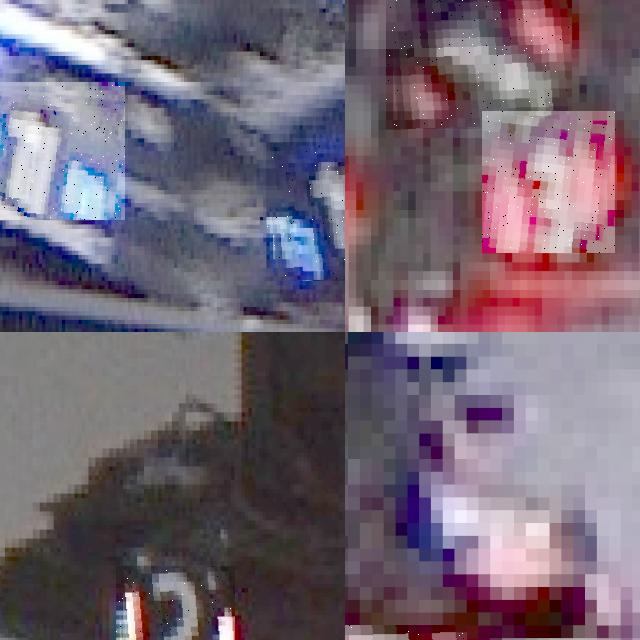B1: (0, 81, 124, 220), (266, 142, 345, 280)
R2: (116, 565, 234, 640)
R3: (386, 0, 572, 129), (482, 112, 616, 254)
